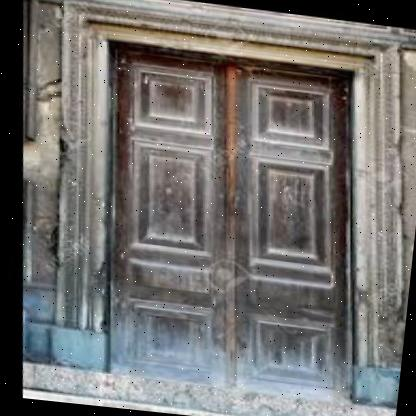door: (32, 0, 403, 410)
